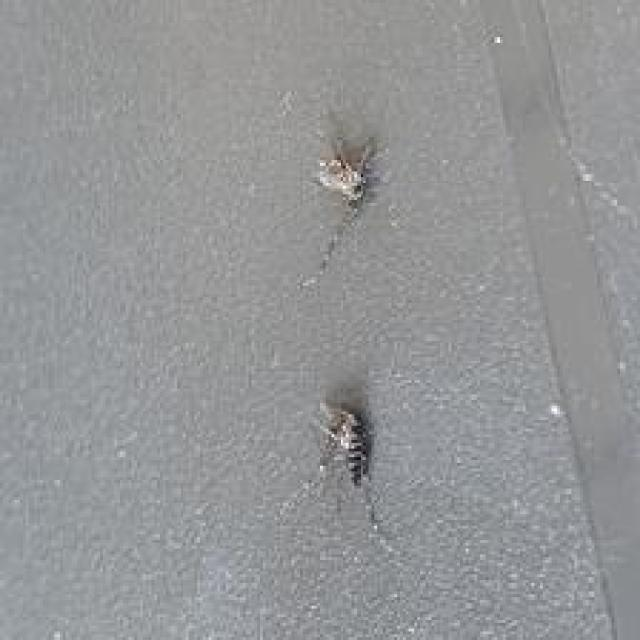Aedes albopictus: (297, 130, 380, 290)
